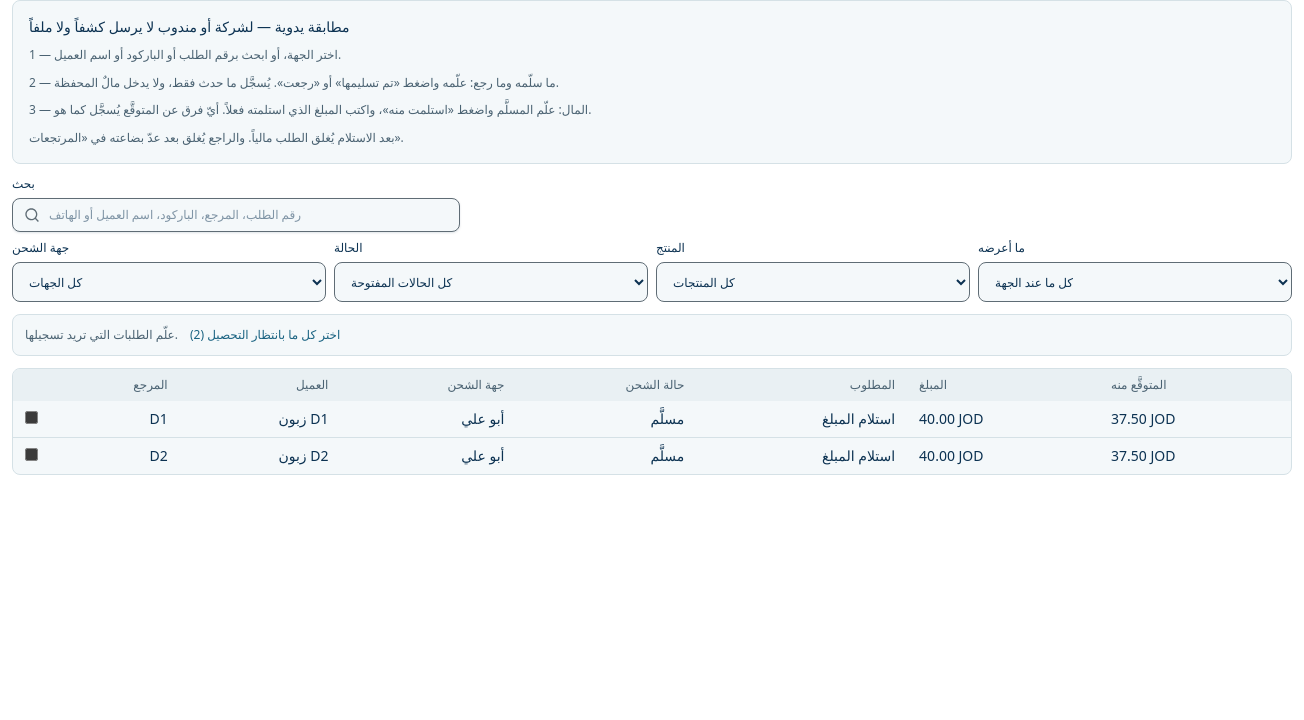
what the ticked parcels ask for › delivered parcels offer the money button, and only it
This screenshot has width=1304, height=720.
Check: the dropdown labelled "جهة الشحن" is shown, box [12,262,326,302]
Check: the row "D1 زبون D1 أبو علي مسلَّم استلام المبلغ 40.00 JOD 37.50 JOD" is shown, box [13,401,1291,438]
What coordinates should you click on to do the following:
click the checkbox named "اختر السجل" in the row of "زبون D1"
I would click on:
 (32, 418)
Its box is [25,411,38,424].
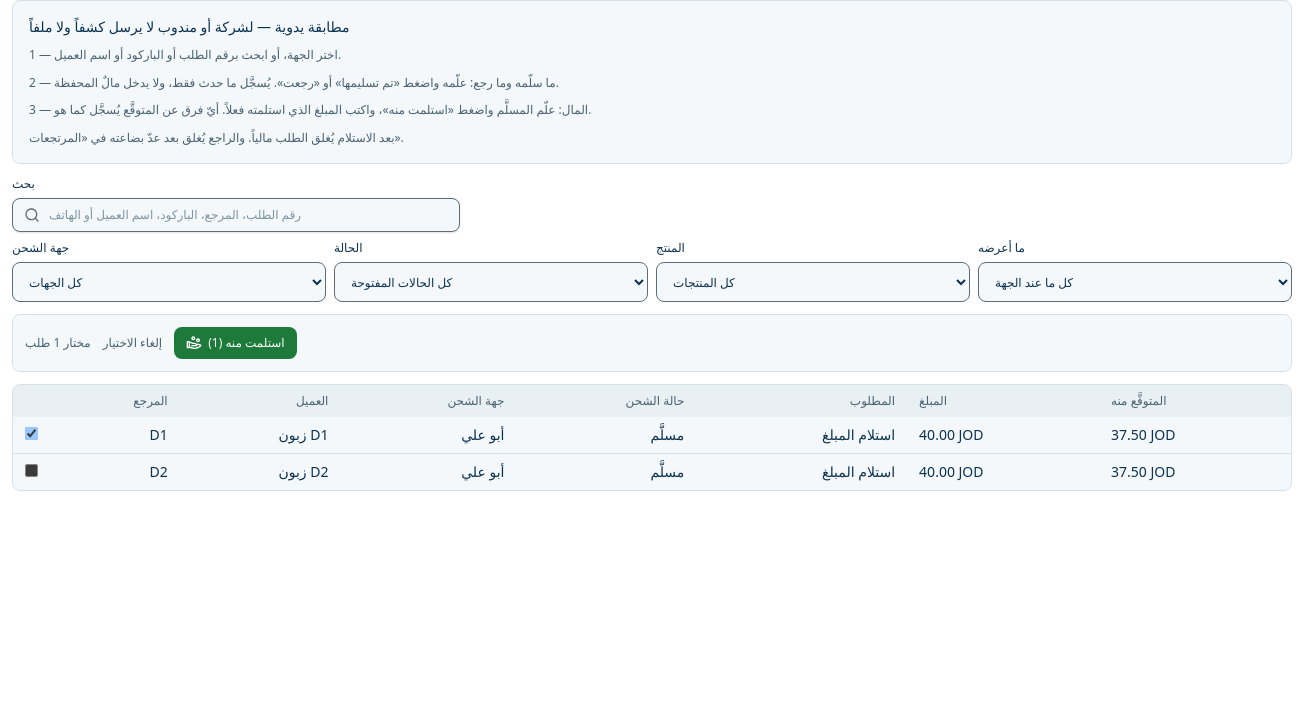
What coordinates should you click on to do the following:
click the checkbox named "اختر السجل"
I would click on:
 (32, 470)
Its box is [25,464,38,477].
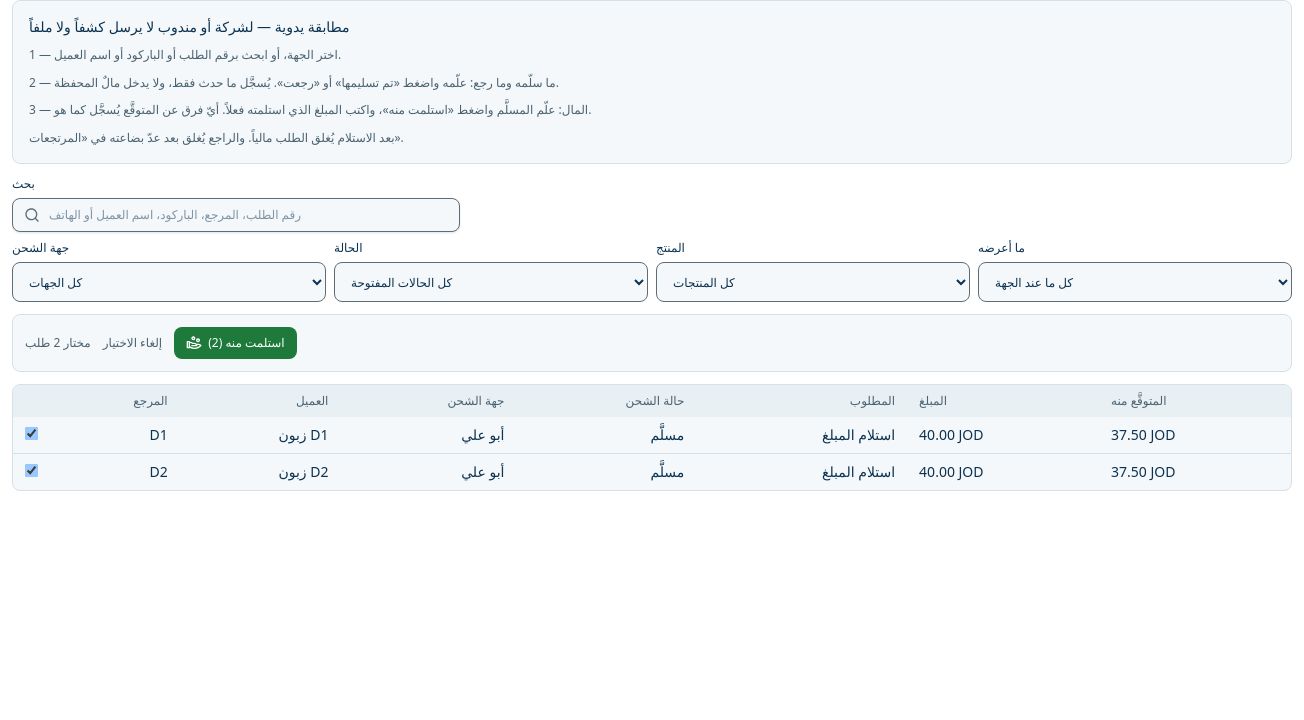
Check: the button "استلمت منه (2)" is shown, box [174,327,297,359]
